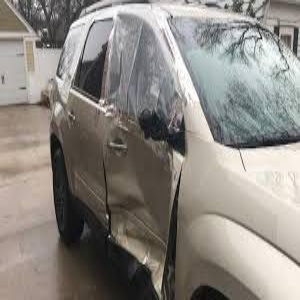bumper_scratch: (138, 134, 220, 173)
